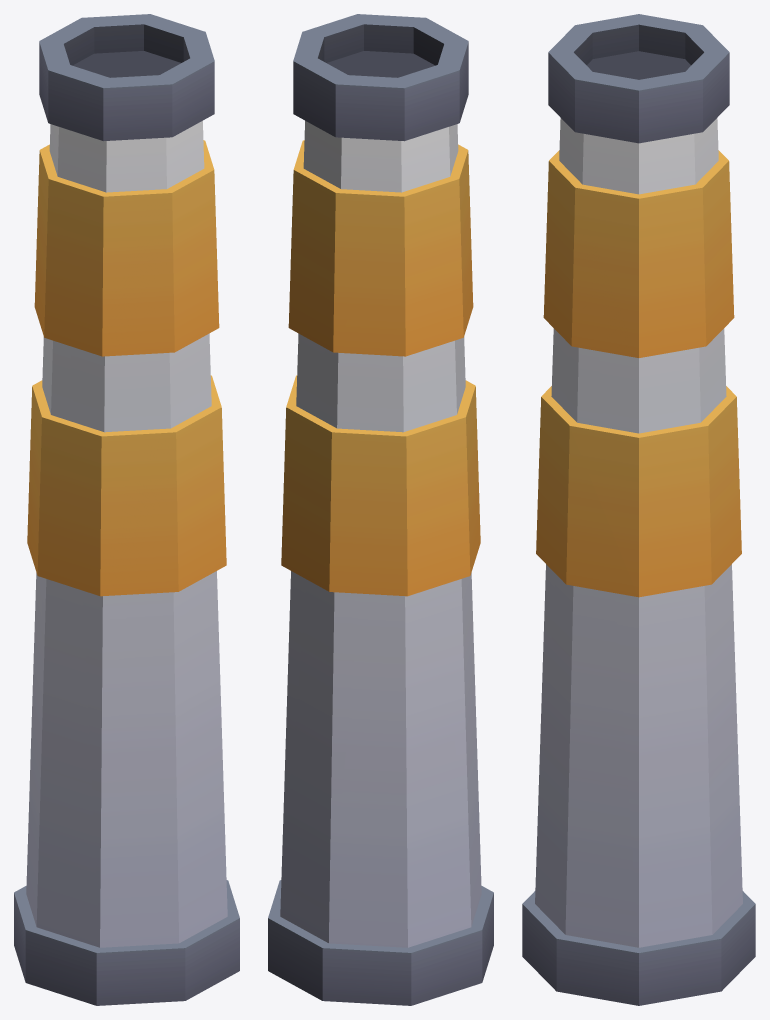
Rendered from industrial__chimney-medium.glb.
The picture shows the model from 3 angles, left to right: view 1: azimuth 30°, elevation 25°; view 2: azimuth 150°, elevation 25°; view 3: azimuth 270°, elevation 25°; orthographic projection.
Parts seen in each view (by area): view 1: chimney-medium; view 2: chimney-medium; view 3: chimney-medium.
Boxes of the visible parts, x1,y1,x2,y2 form: chimney-medium: (14, 14, 239, 1005); chimney-medium: (268, 14, 493, 1005); chimney-medium: (522, 14, 755, 1005).
Size of the model in its own units: 0.45 by 1.92 by 0.45.
Materials: 1 (1 with a texture image).
